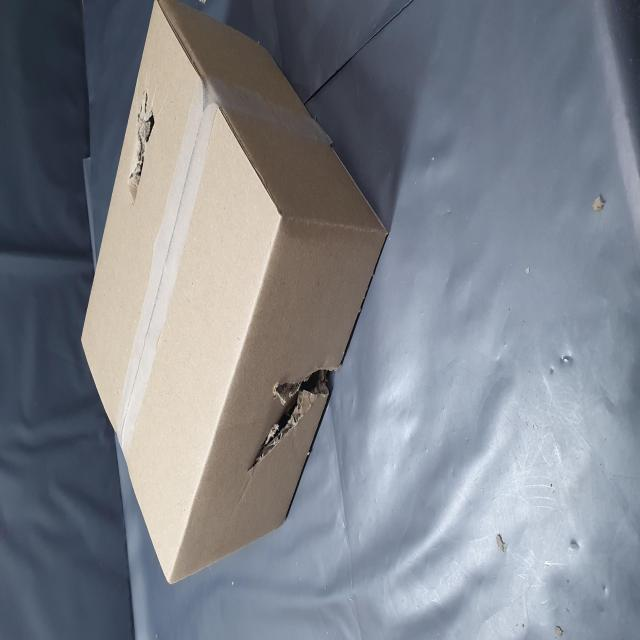damaged: (94, 443, 156, 595), (250, 218, 308, 296)
